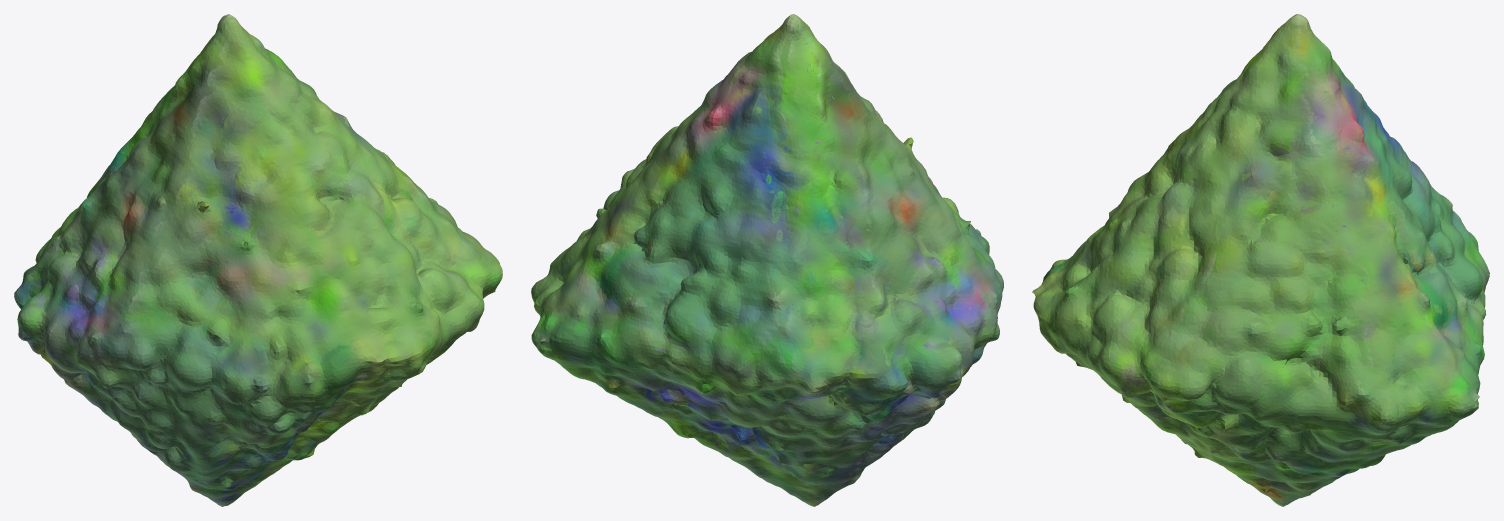
Rendered from set_square_mesh.glb.
3 renders of one model, left to right at view 1: azimuth 30°, elevation 25°; view 2: azimuth 150°, elevation 25°; view 3: azimuth 270°, elevation 25°, orthographic. The views are drawn at different scales.
Size of the model in its own units: 1.76 by 2.02 by 1.69.
1 material, 1 textured.
